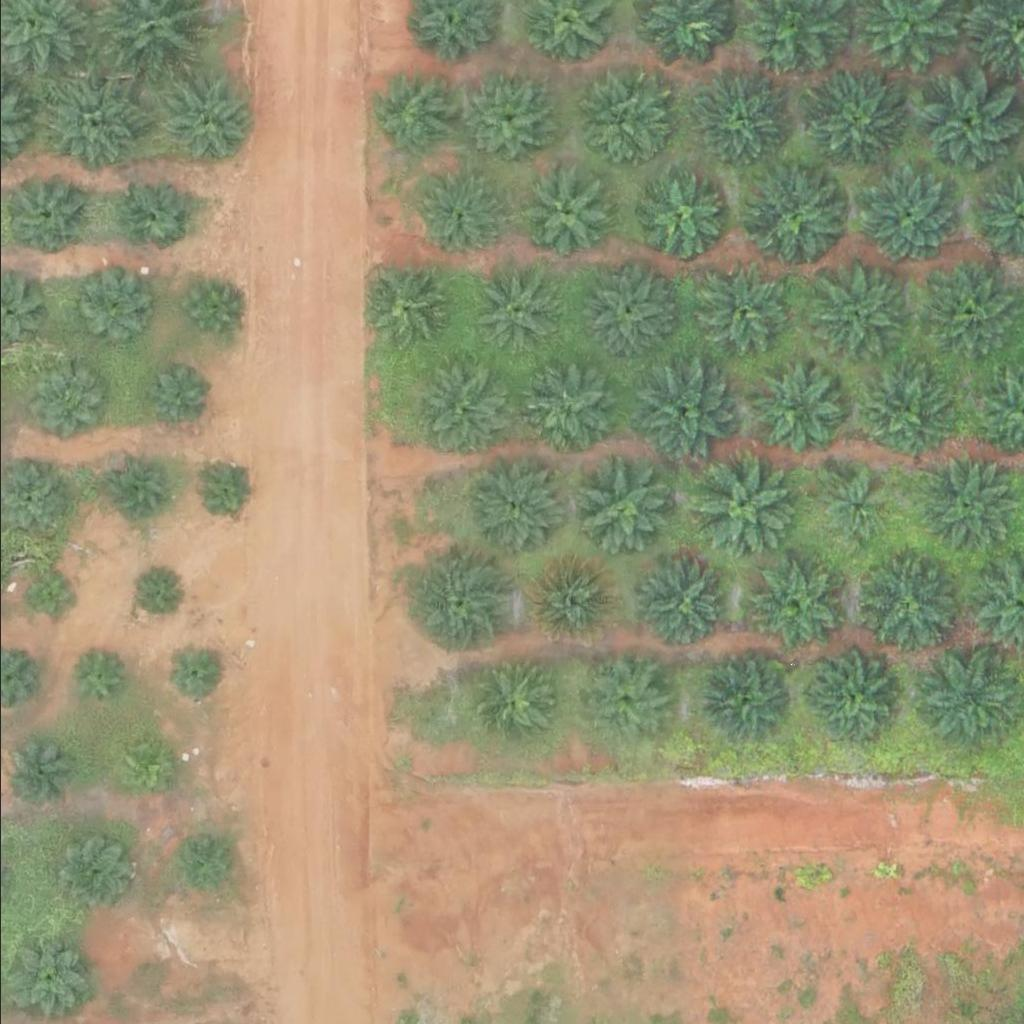Kelapa_Sawit: (689, 462, 790, 562), (853, 363, 954, 463), (629, 361, 730, 461), (916, 265, 1017, 365), (807, 264, 908, 364), (690, 263, 791, 363), (574, 261, 675, 361), (856, 164, 957, 264), (743, 169, 844, 269), (916, 72, 1017, 172), (800, 70, 901, 170), (690, 72, 791, 172), (416, 358, 517, 458), (568, 460, 669, 560), (464, 458, 565, 558), (410, 557, 511, 657), (920, 647, 1020, 747), (854, 554, 954, 654), (916, 457, 1016, 557), (457, 74, 557, 174), (153, 69, 253, 169), (37, 73, 137, 173), (750, 564, 838, 652), (640, 558, 728, 646), (632, 171, 720, 259), (519, 171, 607, 259), (413, 173, 501, 261), (473, 269, 561, 357), (363, 266, 451, 354), (529, 558, 617, 646), (466, 663, 554, 751), (800, 657, 888, 744), (703, 658, 791, 745), (577, 657, 665, 744), (754, 366, 842, 453), (573, 77, 661, 164), (366, 74, 454, 161), (526, 373, 614, 460), (812, 469, 888, 544), (50, 831, 126, 906), (112, 174, 188, 249), (9, 940, 85, 1015), (71, 272, 146, 347), (29, 365, 104, 440), (193, 457, 256, 520), (104, 458, 167, 521), (109, 732, 172, 795), (171, 824, 234, 887), (177, 277, 240, 339), (144, 367, 207, 429), (162, 642, 225, 704), (62, 646, 125, 708), (130, 572, 181, 622), (24, 571, 75, 621)
